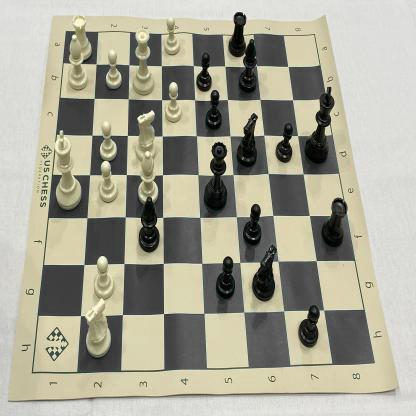black-bishop: (135, 195, 162, 254), (237, 36, 260, 95)
black-king: (304, 83, 338, 167)
black-knight: (251, 241, 278, 305), (236, 109, 260, 170)
black-pawn: (214, 251, 239, 303), (296, 303, 322, 351), (241, 202, 264, 249), (203, 85, 224, 134), (273, 120, 295, 165), (195, 51, 214, 93)
black-queen: (202, 140, 229, 214)
black-rook: (320, 193, 350, 249), (227, 6, 247, 61)
white-bishop: (64, 33, 90, 93), (135, 150, 161, 207)
white-king: (51, 126, 85, 215)
white-knight: (81, 296, 115, 362), (133, 106, 159, 162)
white-pawn: (91, 253, 116, 302), (96, 160, 120, 205), (96, 118, 119, 163), (163, 79, 183, 127), (163, 14, 183, 58), (104, 49, 124, 93)
white-queen: (132, 24, 156, 98)
white-rook: (69, 10, 96, 64)
